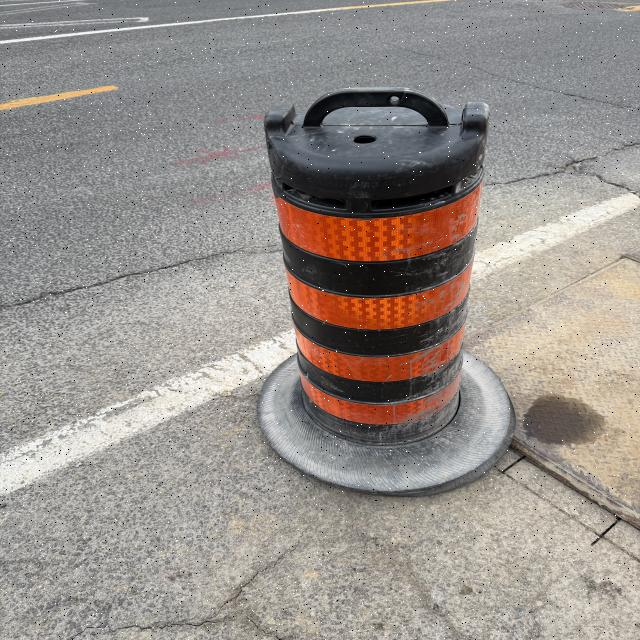Teraffic Barrel: (258, 88, 515, 495)
